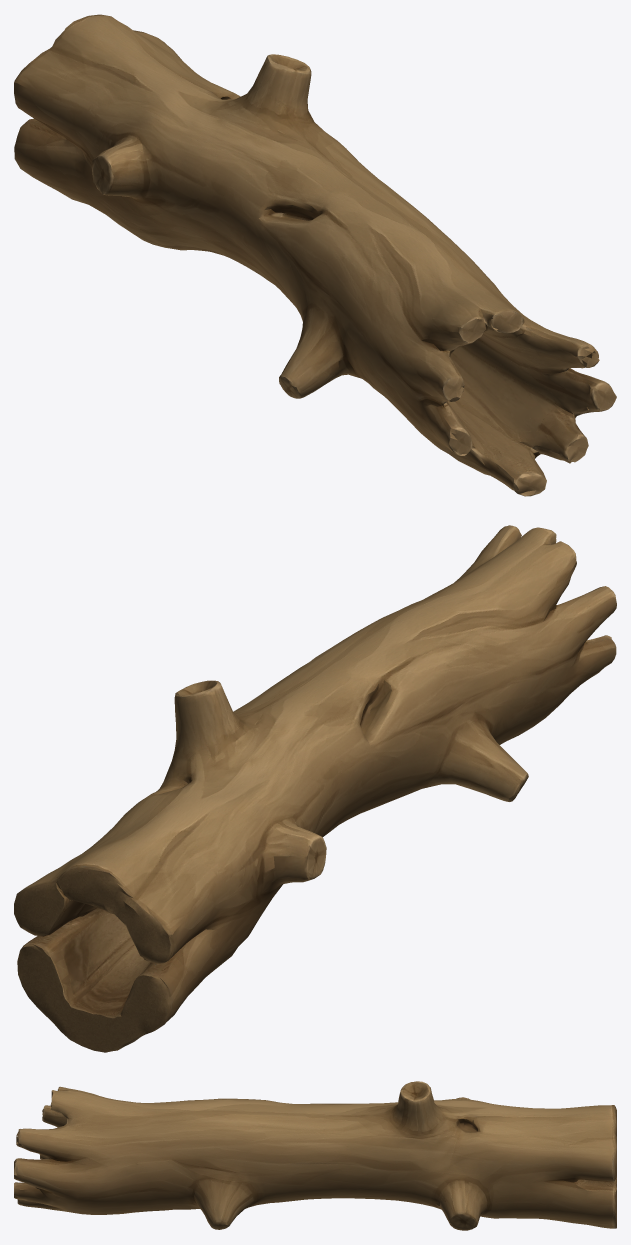
The model's file is driftwood_log.glb.
3 views of the same model, one above another, from view 1: azimuth 30°, elevation 25°; view 2: azimuth 150°, elevation 25°; view 3: azimuth 270°, elevation 25° (orthographic). The views are drawn at different scales.
Visible parts, largest first — view 1: driftwood_log; view 2: driftwood_log; view 3: driftwood_log.
Part boxes in pixels (x1,y1,x2,y2): driftwood_log: [14, 14, 616, 496]; driftwood_log: [14, 525, 616, 1052]; driftwood_log: [14, 1081, 616, 1230].
Bounding box in the file's own units: 0.301 × 0.3 × 1.07.
Materials: 1 (1 with a texture image).
